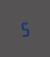five: (19, 20, 29, 36)
